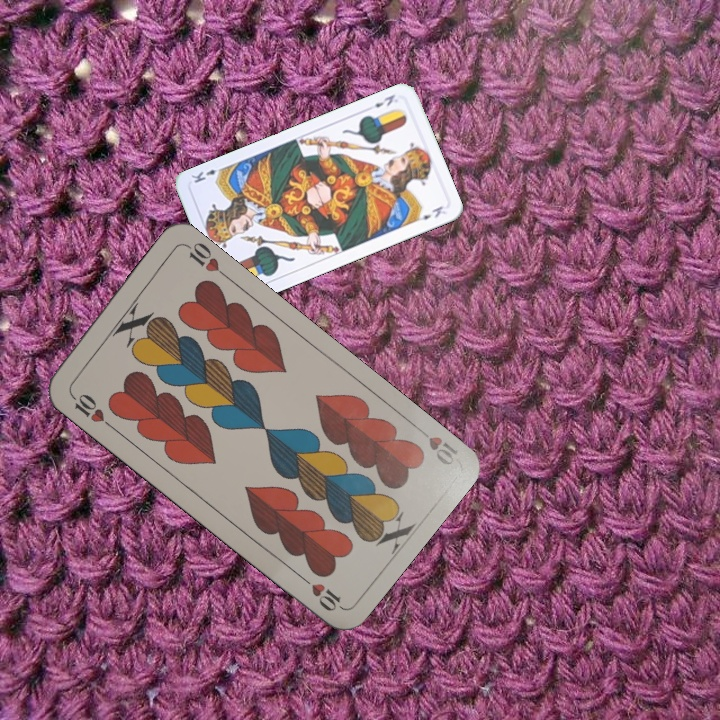EK: (370, 90, 398, 110)
H10: (411, 421, 461, 468), (65, 389, 115, 431)
